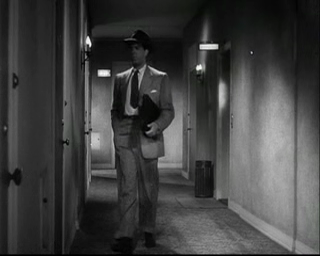face: (129, 42, 144, 65)
ls: (1, 1, 320, 256)
person: (110, 29, 175, 252)
